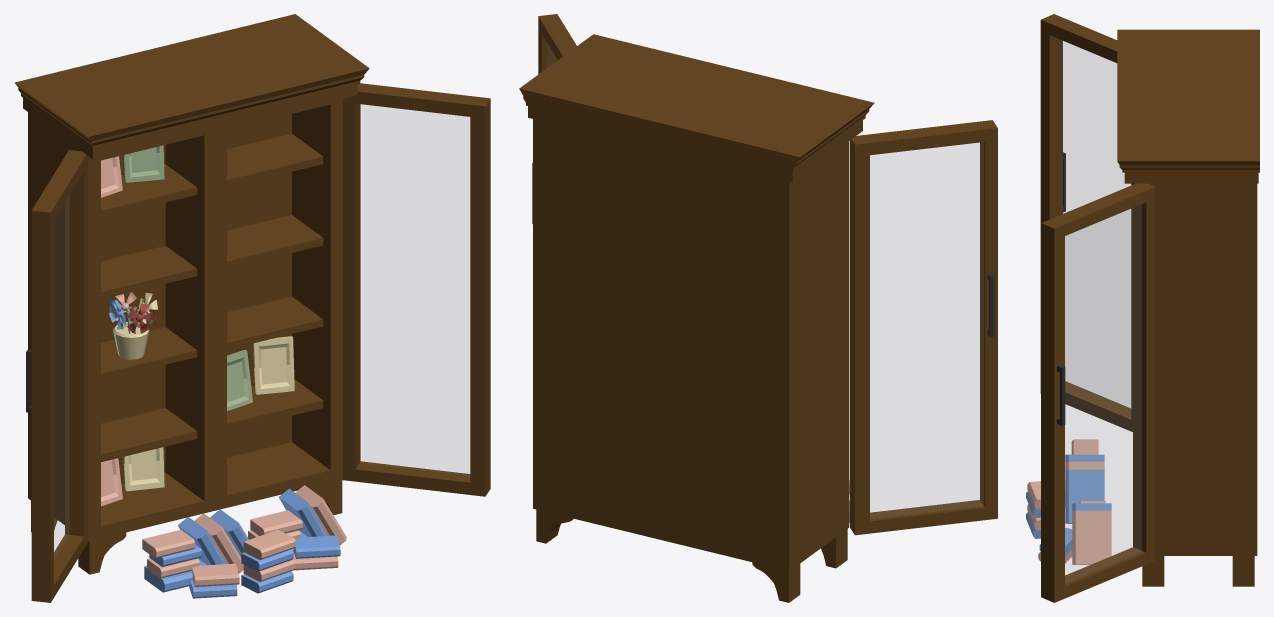
File: geo_bookShelfOpen_01.fbx
3 views of the same model, side by side, from view 1: azimuth 30°, elevation 25°; view 2: azimuth 150°, elevation 25°; view 3: azimuth 270°, elevation 25° (orthographic). The views are drawn at different scales.
Parts seen in each view (by area): view 1: geo_BookShelves, geo_doorGlassRight, geo_DoorRight, geo_doorLeft, geo_doorGlassLeft, geo_photoframe_45, geo_photoframe_43, geo_photoframe_44, geo_photoframe_41, geo_bookFloor_35, geo_bookFloor_38, geo_bookFloor_23 (+15 smaller); view 2: geo_BookShelves, geo_doorGlassLeft, geo_doorLeft, geo_DoorRight, geo_BookShelfLeg_2, geo_BookShelfLeg_3, geo_BookShelfLeg_1; view 3: geo_BookShelves, geo_doorGlassRight, geo_DoorRight, geo_doorGlassLeft, geo_doorLeft, geo_bookFloor_24, geo_bookFloor_34, geo_BookShelfLeg_3, geo_BookShelfLeg_4, geo_bookFloor_35, geo_DoorHandleRight, geo_bookFloor_32.
Part boxes in pixels (x1,y1,x2,y2): geo_BookShelves: [14, 14, 369, 541]; geo_doorGlassRight: [362, 105, 469, 475]; geo_DoorRight: [342, 83, 490, 496]; geo_doorLeft: [31, 150, 87, 602]; geo_doorGlassLeft: [54, 197, 68, 558]; geo_photoframe_45: [253, 336, 294, 394]; geo_photoframe_43: [123, 447, 164, 491]; geo_photoframe_44: [227, 350, 252, 411]; geo_photoframe_41: [123, 145, 164, 182]; geo_bookFloor_35: [142, 530, 194, 558]; geo_bookFloor_38: [243, 530, 295, 559]; geo_bookFloor_23: [279, 488, 326, 536]; geo_BookShelves: [519, 34, 874, 571]; geo_doorGlassLeft: [870, 142, 983, 518]; geo_doorLeft: [849, 120, 997, 535]; geo_DoorRight: [538, 14, 576, 74]; geo_BookShelfLeg_2: [752, 562, 800, 602]; geo_BookShelfLeg_3: [536, 509, 573, 543]; geo_BookShelfLeg_1: [821, 529, 847, 568]; geo_BookShelves: [1117, 29, 1259, 555]; geo_doorGlassRight: [1065, 205, 1140, 583]; geo_DoorRight: [1041, 183, 1155, 602]; geo_doorGlassLeft: [1060, 40, 1130, 409]; geo_doorLeft: [1040, 14, 1134, 431]; geo_bookFloor_24: [1072, 510, 1111, 564]; geo_bookFloor_34: [1065, 469, 1104, 523]; geo_BookShelfLeg_3: [1232, 556, 1254, 586]; geo_BookShelfLeg_4: [1142, 556, 1164, 586]; geo_bookFloor_35: [1071, 439, 1098, 454]; geo_DoorHandleRight: [1057, 365, 1065, 425]; geo_bookFloor_32: [1065, 461, 1104, 469].
Size of the model in its own units: 153 by 143 by 69.77.
